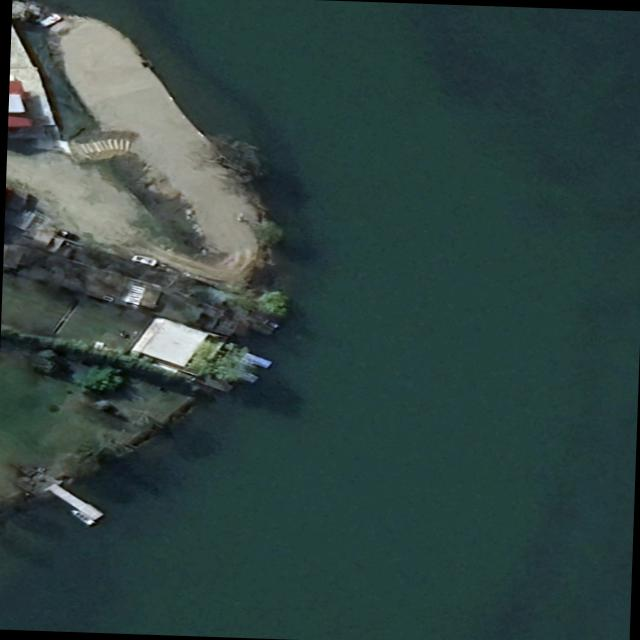building: (0, 0, 269, 392), (38, 479, 98, 524)
grass: (0, 324, 240, 514)
water: (0, 0, 640, 640)
